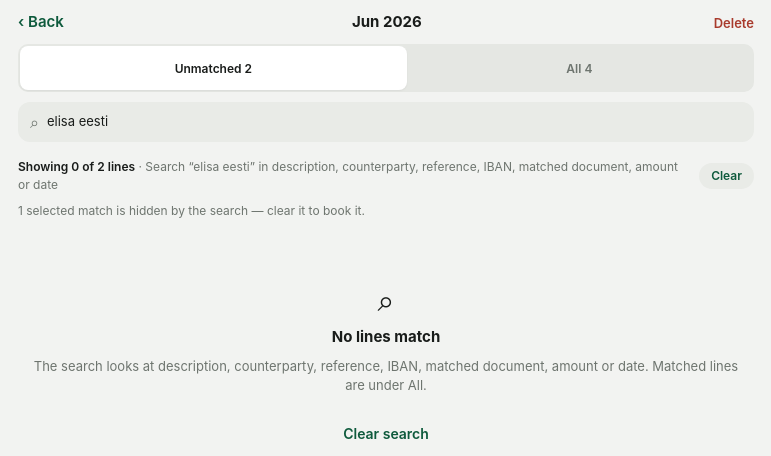
it: StatementScreen search (issue #278) › matched lines are searched in All (by their matched document); Unmatched says where they are
Expected: the text "No lines match" is shown, [332,326,440,348]
Expected: the text "Matched lines are under All" is shown, [34,358,738,393]
Click the radio button labelled "All 4" at (579, 68), box [566,60,592,76]
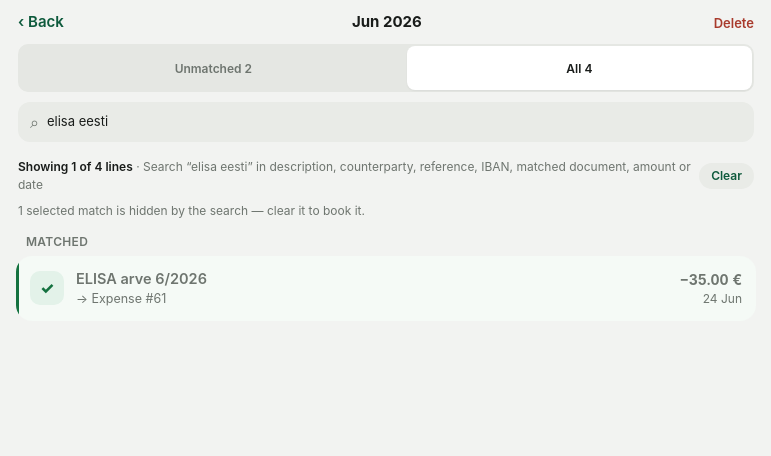
Expected: the text "ELISA arve 6/2026" is shown, [76,270,207,287]
